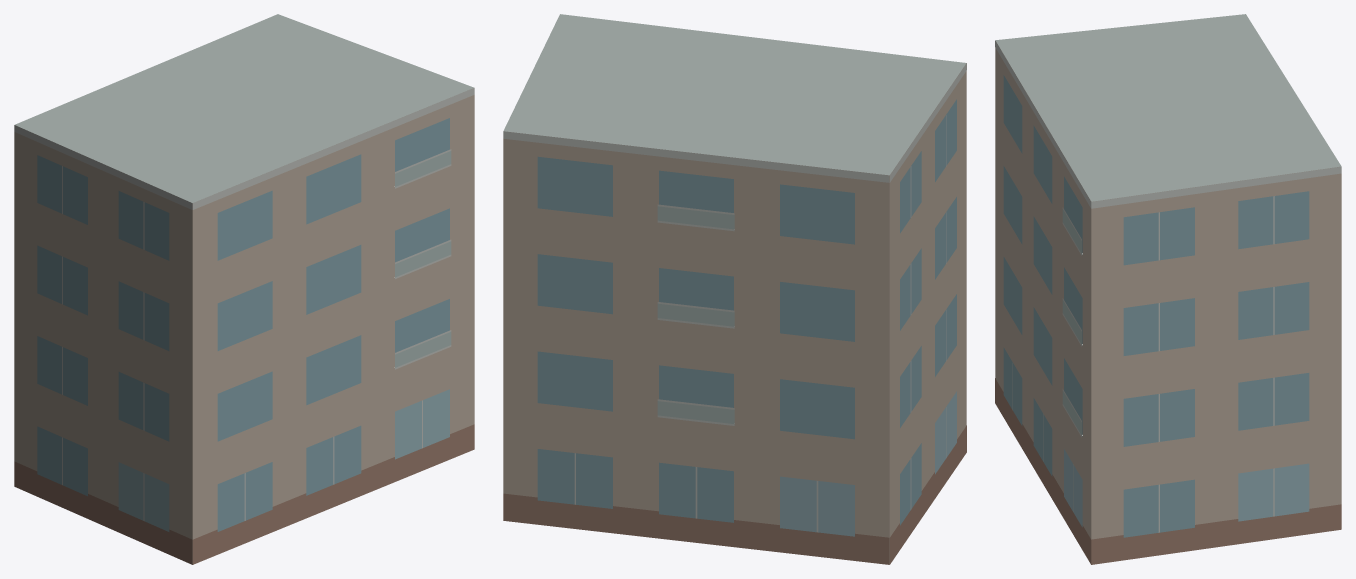
The model's file is survey-upis-32663644.glb.
3 views of the same model, side by side, from view 1: azimuth 30°, elevation 25°; view 2: azimuth 150°, elevation 25°; view 3: azimuth 270°, elevation 25° (orthographic). The views are drawn at different scales.
Visible parts, largest first — view 1: survey-upis-32663644.tmp; view 2: survey-upis-32663644.tmp; view 3: survey-upis-32663644.tmp.
Part boxes in pixels (box(x1,y1,x2,y2)): survey-upis-32663644.tmp: box(14, 14, 474, 564); survey-upis-32663644.tmp: box(503, 14, 966, 564); survey-upis-32663644.tmp: box(995, 14, 1341, 564).
Size of the model in its own units: 13.98 by 12.6 by 10.9.
